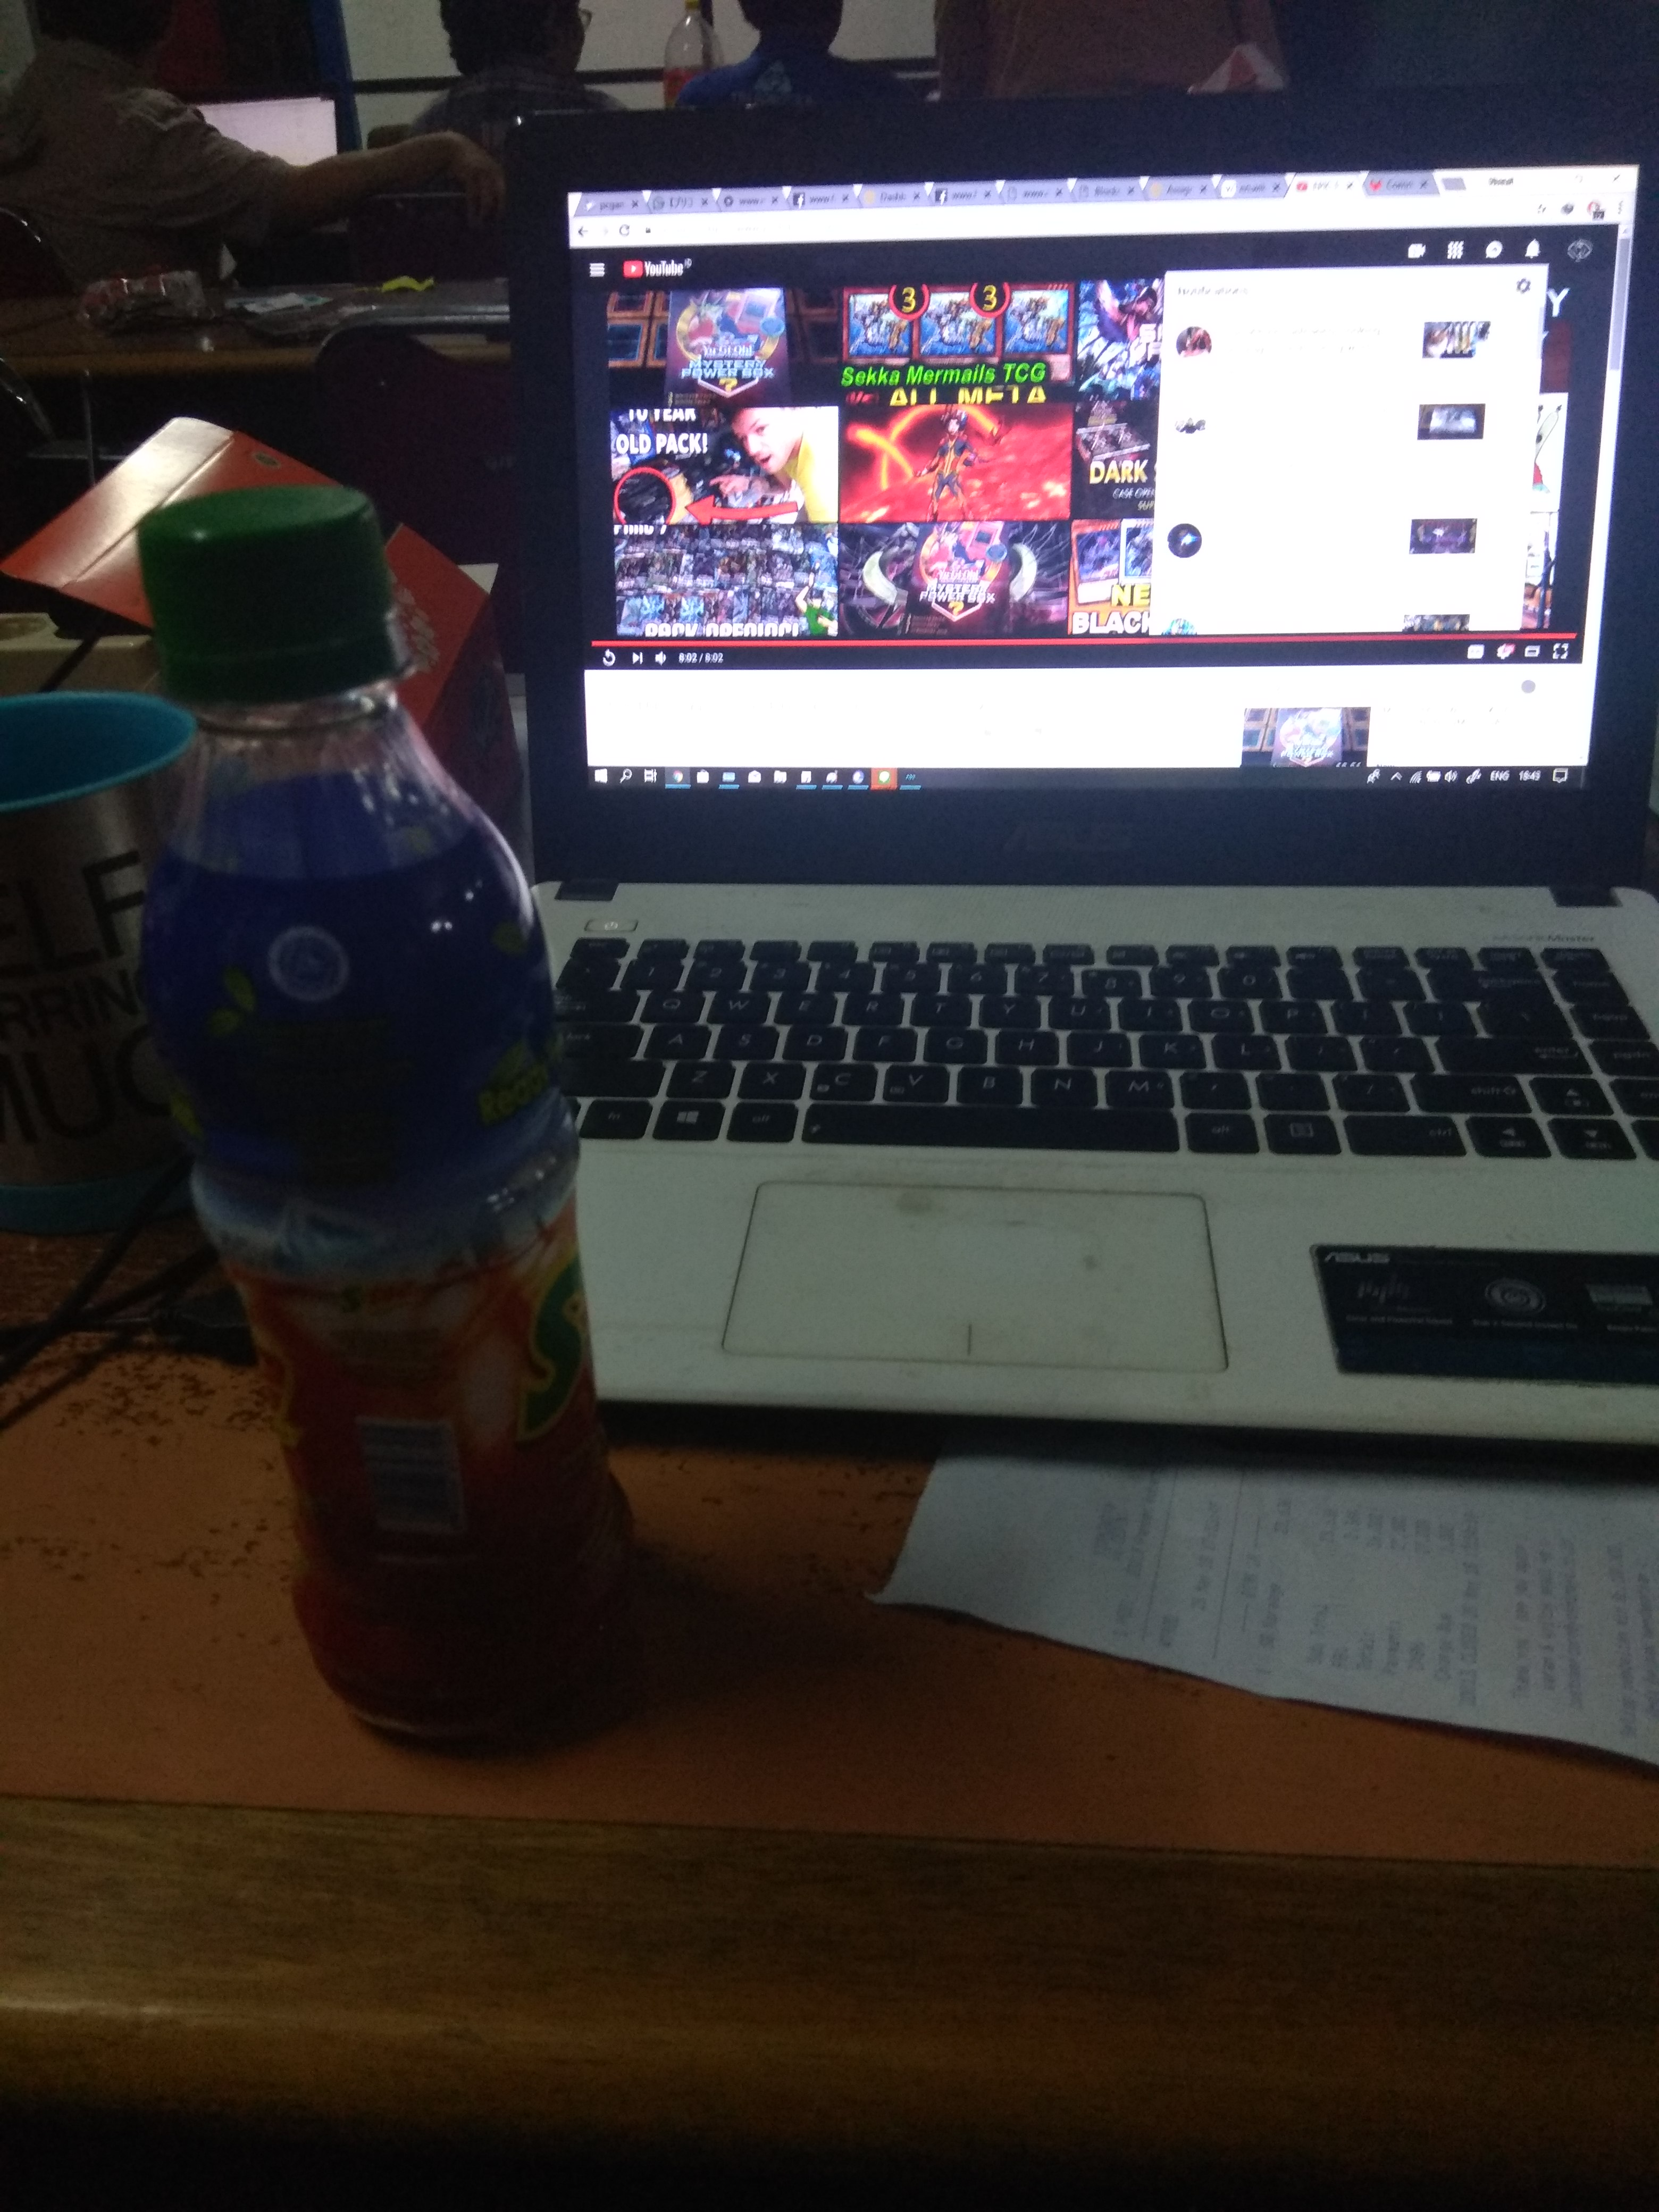botol: (124, 484, 634, 1737), (124, 507, 634, 1737), (134, 484, 634, 1737)
